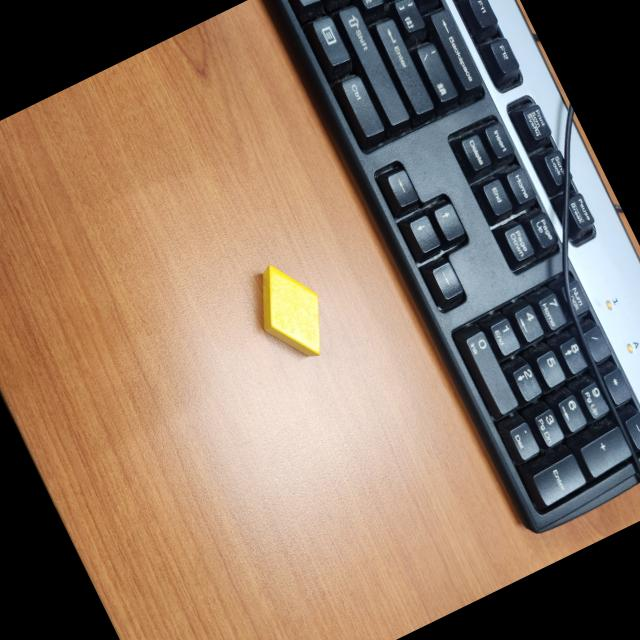yellow: (262, 266, 320, 356)
